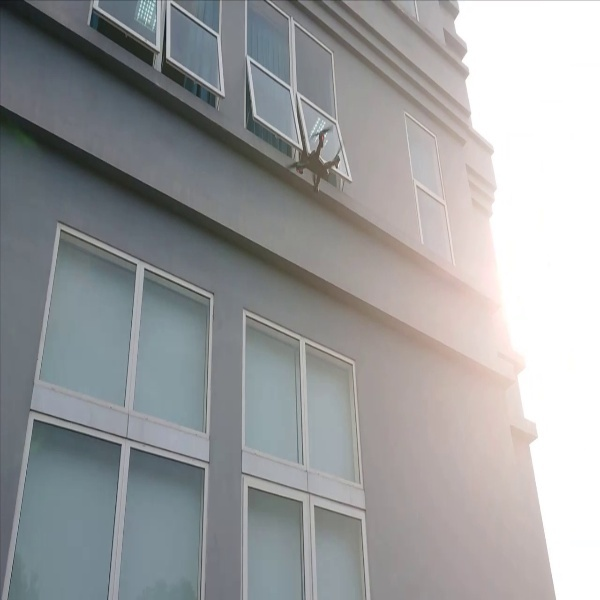drone: (282, 125, 348, 204)
